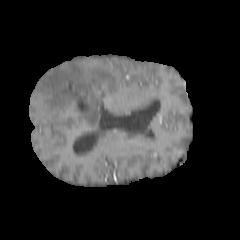glioma: (38, 62, 118, 130)
